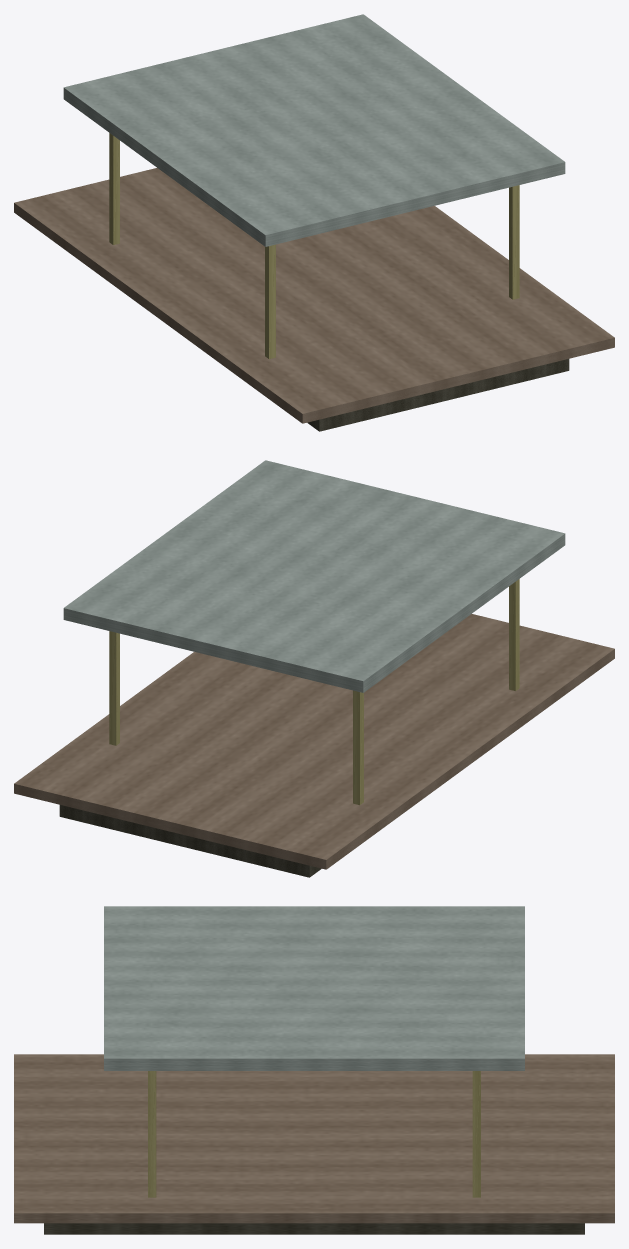
The model's file is bung-raft-2-grey-lod.glb.
3 views of the same model, one above another, from view 1: azimuth 30°, elevation 25°; view 2: azimuth 150°, elevation 25°; view 3: azimuth 270°, elevation 25° (orthographic). The views are drawn at different scales.
Parts seen in each view (by area): view 1: bung-raft-2-grey-lod; view 2: bung-raft-2-grey-lod; view 3: bung-raft-2-grey-lod.
Boxes of the visible parts, x1,y1,x2,y2 form: bung-raft-2-grey-lod: [14, 14, 614, 431]; bung-raft-2-grey-lod: [14, 460, 614, 877]; bung-raft-2-grey-lod: [14, 906, 614, 1234].
Bounding box in the file's own units: 5 × 2.78 × 8.
1 material, 1 textured.
